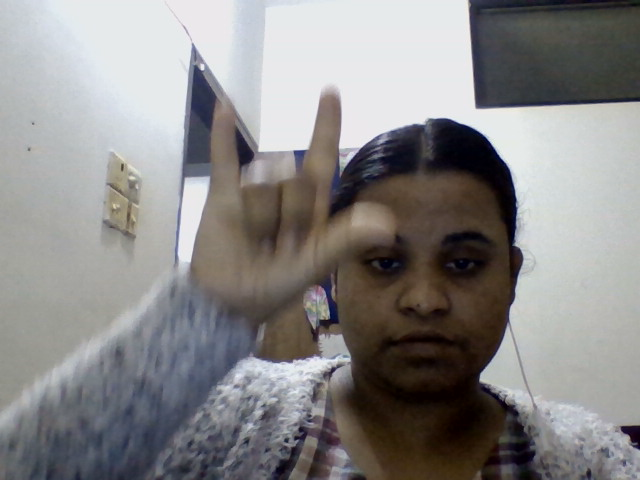I Love You: (177, 66, 426, 331)
